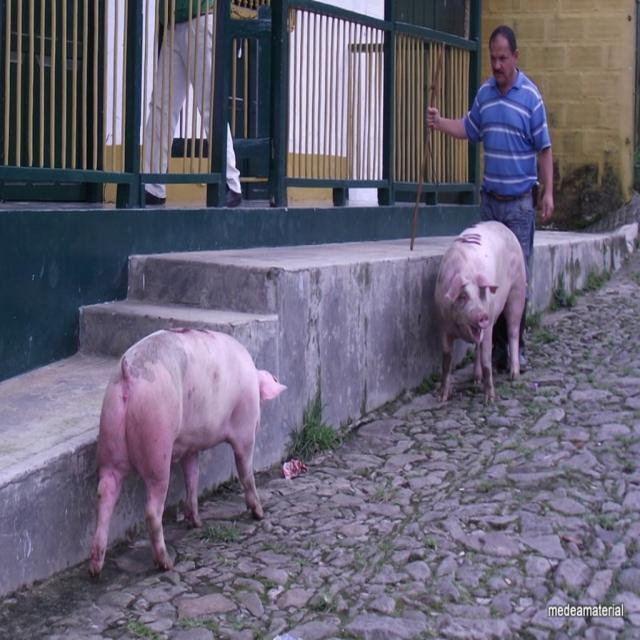Pig: (88, 326, 288, 578), (433, 218, 526, 406)
